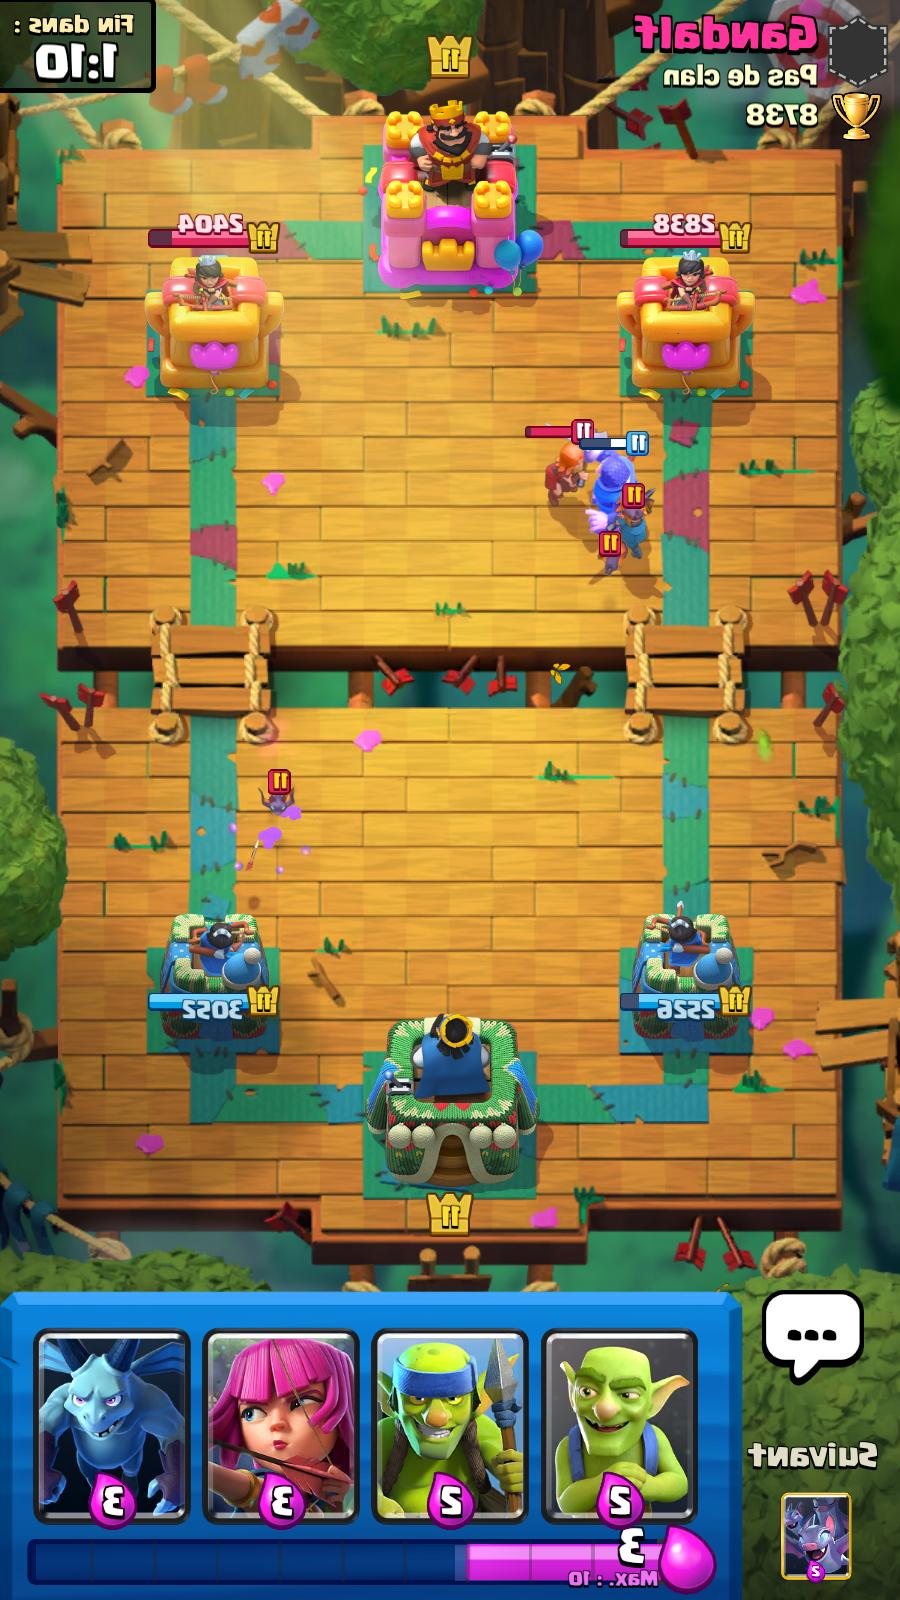bat: (254, 769, 299, 816), (613, 481, 656, 523), (598, 541, 626, 584)
chevalier: (578, 427, 652, 538)
valkyrie: (521, 421, 609, 509), (608, 486, 664, 562)
